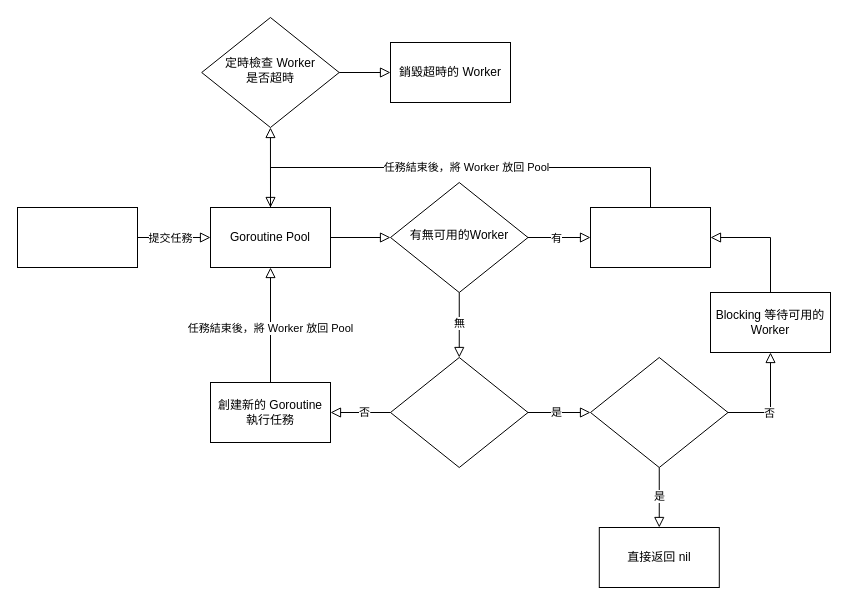
Image size: 848x605. Some labels were removed from this diagram. The centre of each missing label's shape, as x and y in pixels:
"Pool 大小是否超出限制" belongs at point (459, 412).
"Pool 是否為 Non-Blocking" belongs at point (659, 412).
"初始化 Goroutine Pool" belongs at point (77, 237).
"取出 Worker 執行任務" belongs at point (650, 237).
